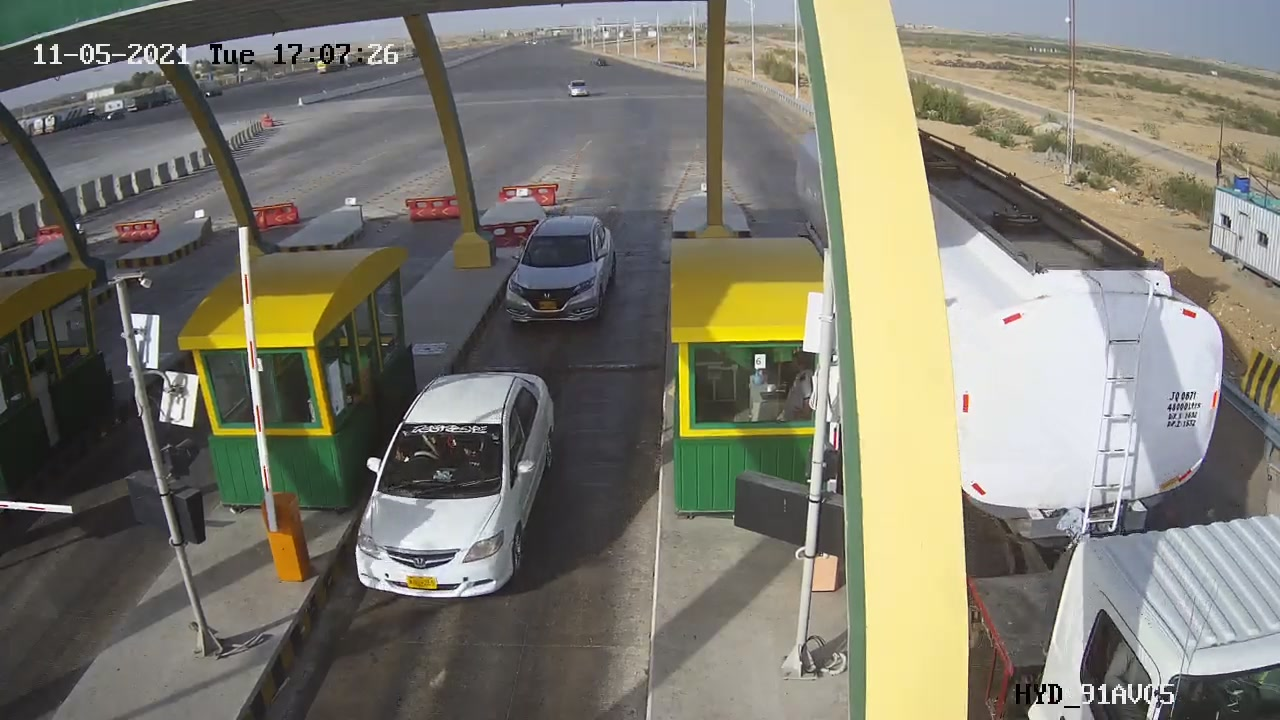F1: (337, 353, 574, 618), (478, 205, 647, 343)
